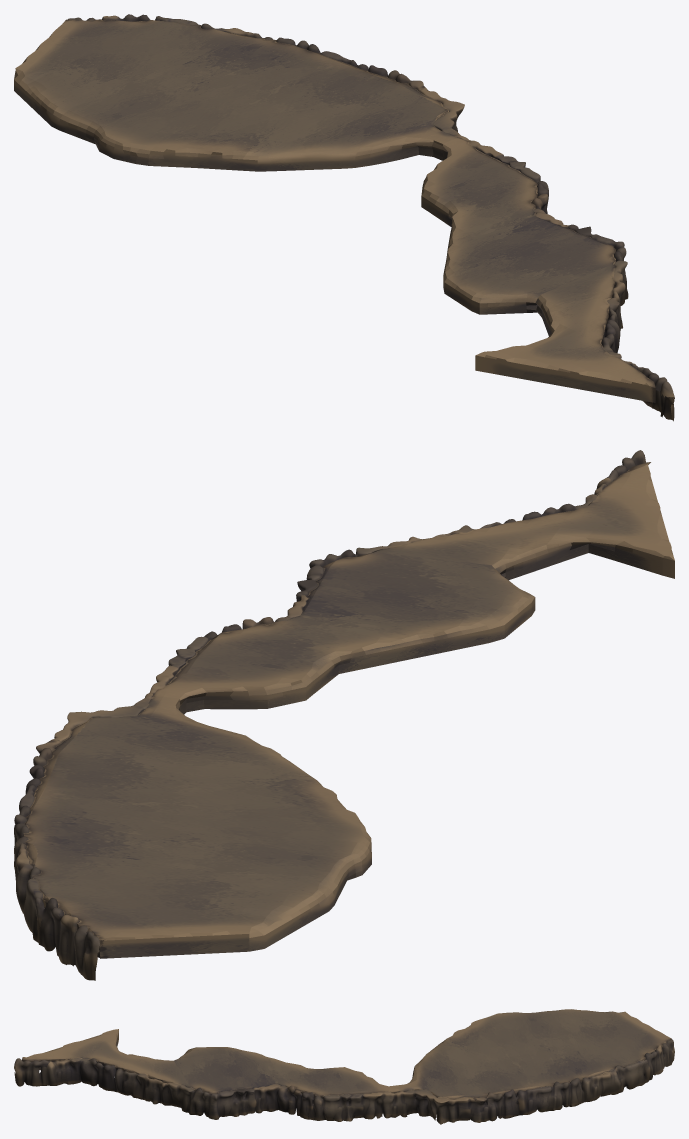
The model's file is Level1_Zone3.glb.
The picture shows the model from 3 angles, top to bottom: view 1: azimuth 30°, elevation 25°; view 2: azimuth 150°, elevation 25°; view 3: azimuth 270°, elevation 25°; orthographic projection. The views are drawn at different scales.
Visible parts, largest first — view 1: acantilado_Low, acantilado_Low.001, acantilado_Low.002; view 2: acantilado_Low, acantilado_Low.001, acantilado_Low.002; view 3: acantilado_Low, acantilado_Low.001, acantilado_Low.002.
Boxes of the visible parts, <box> form: acantilado_Low: <box>14,14,548,195</box>; acantilado_Low.001: <box>421,130,628,324</box>; acantilado_Low.002: <box>475,290,674,421</box>; acantilado_Low: <box>14,702,371,980</box>; acantilado_Low.001: <box>135,535,535,714</box>; acantilado_Low.002: <box>436,450,674,578</box>; acantilado_Low: <box>303,1009,674,1124</box>; acantilado_Low.001: <box>150,1047,412,1121</box>; acantilado_Low.002: <box>14,1029,215,1119</box>.
Size of the model in its own units: 81.97 by 11.37 by 240.
1 material, 1 textured.
